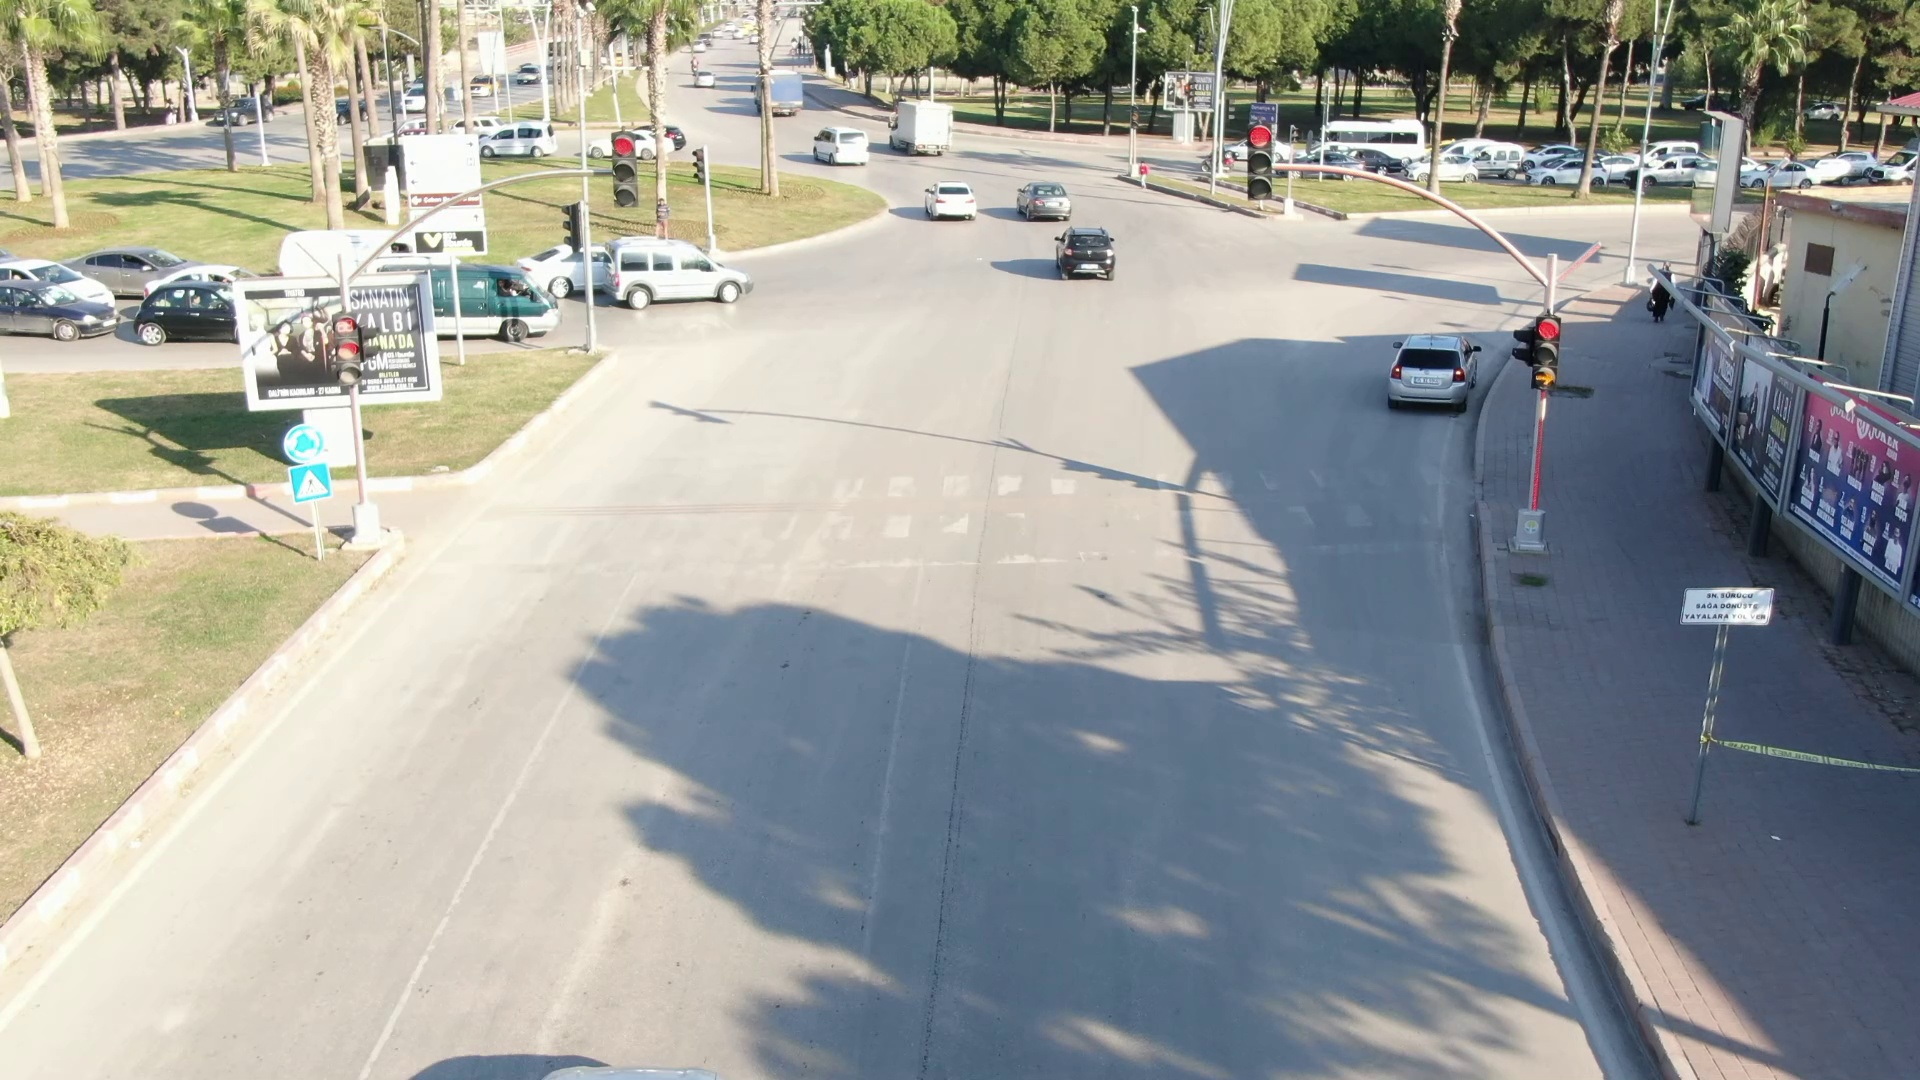car: (595, 225, 771, 330), (1371, 313, 1466, 411), (1040, 224, 1147, 301), (880, 94, 969, 164), (804, 123, 891, 175), (1009, 171, 1085, 229), (909, 175, 996, 224)
